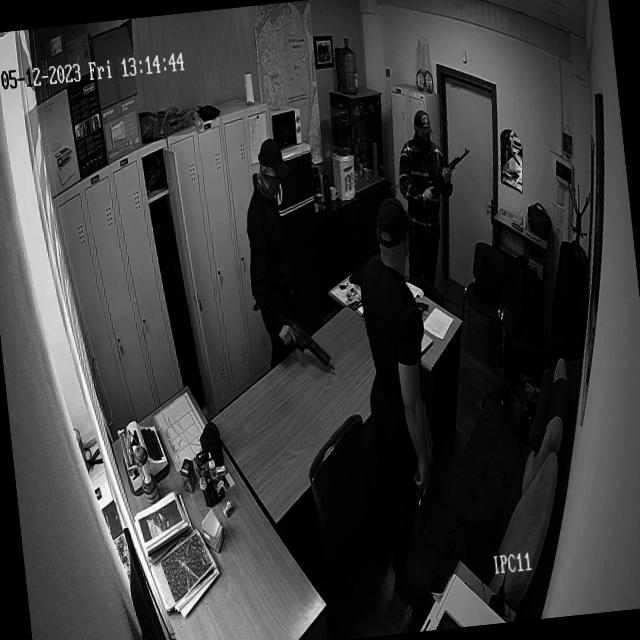gun: (273, 297, 337, 383), (417, 146, 475, 195), (410, 458, 432, 512)
person with a gun: (350, 198, 444, 556), (236, 137, 302, 356), (396, 114, 456, 282)
